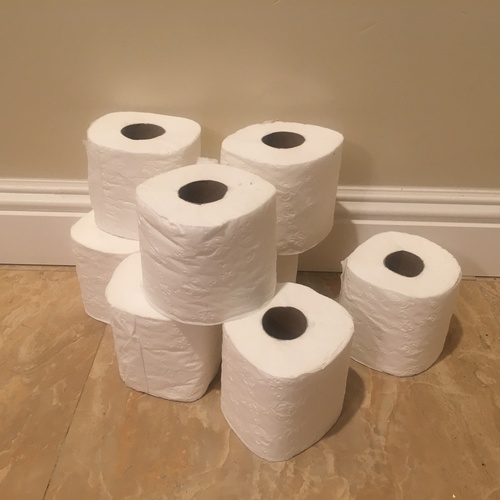roll: (222, 282, 354, 461), (136, 163, 277, 326), (341, 228, 463, 377), (104, 252, 222, 403), (219, 121, 344, 257), (85, 110, 202, 242), (70, 209, 140, 325)
